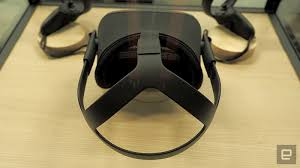oculus: (84, 11, 223, 105)
